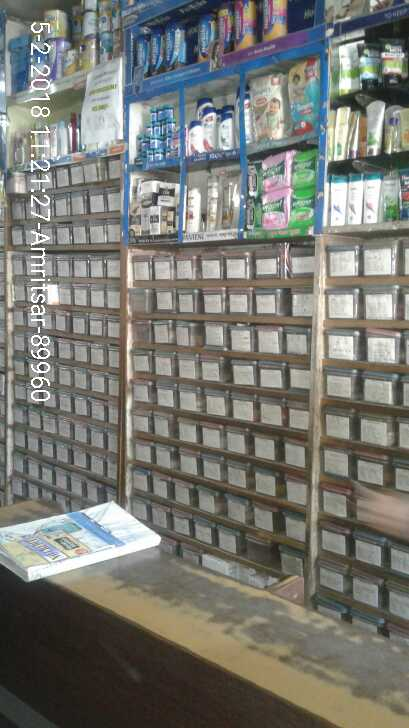vicks: (130, 102, 186, 169)
